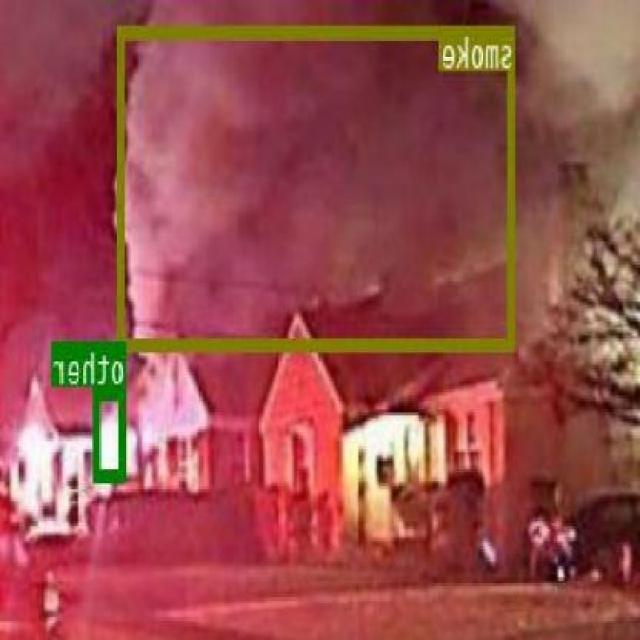Smoke: (118, 23, 516, 348)
